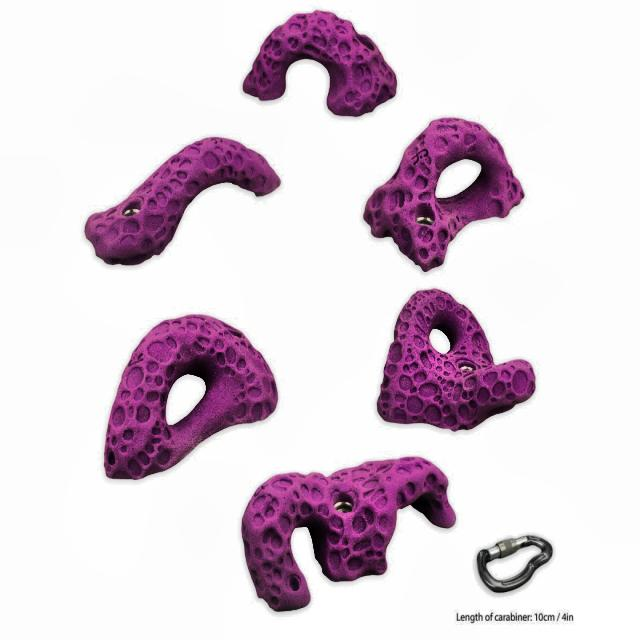Hold: (235, 467, 454, 612), (102, 309, 276, 486), (84, 140, 276, 270), (364, 122, 528, 263), (370, 295, 533, 431), (237, 10, 397, 120)
